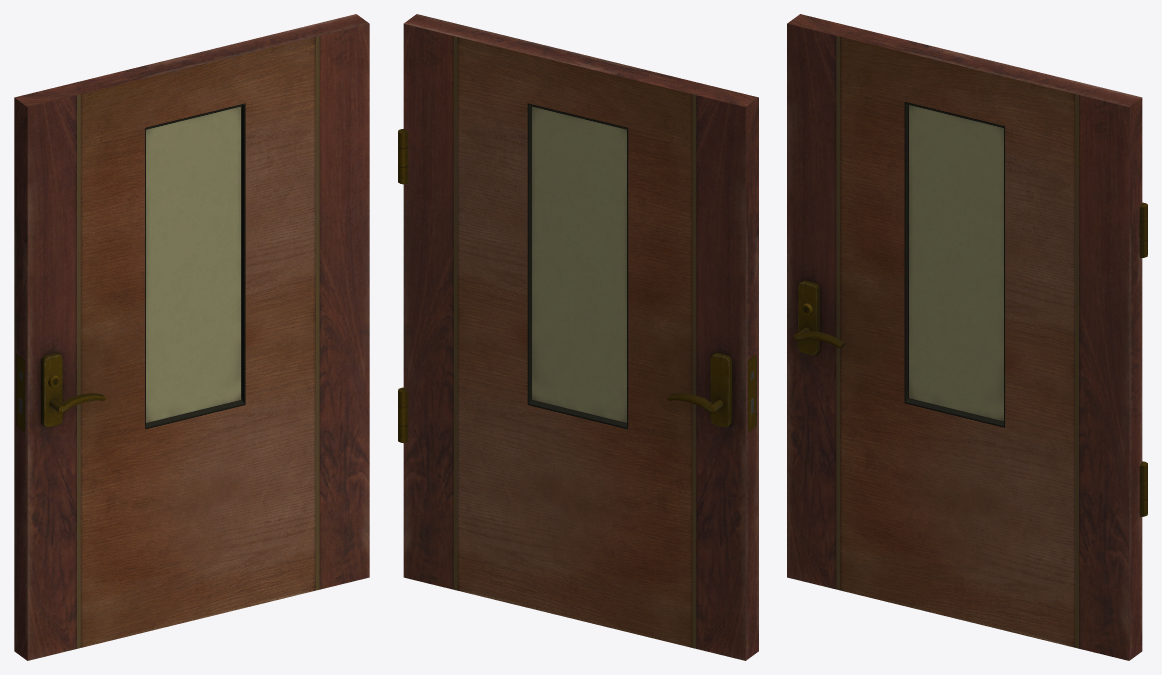
The model's file is exit_waitroom_02.dae.
The picture shows the model from 3 angles, left to right: view 1: azimuth 30°, elevation 25°; view 2: azimuth 150°, elevation 25°; view 3: azimuth 330°, elevation 25°; orthographic projection.
Visible parts, largest first — view 1: polySurface229, handle; view 2: polySurface229, handle; view 3: polySurface229.
Part boxes in pixels (left/top/right/bottom): polySurface229: left=14, top=14, right=369, bottom=660; handle: left=49, top=393, right=105, bottom=413; polySurface229: left=398, top=14, right=758, bottom=660; handle: left=667, top=393, right=723, bottom=413; polySurface229: left=787, top=14, right=1147, bottom=660.
Bounding box in the file's own units: 177 × 270 × 33.73.
